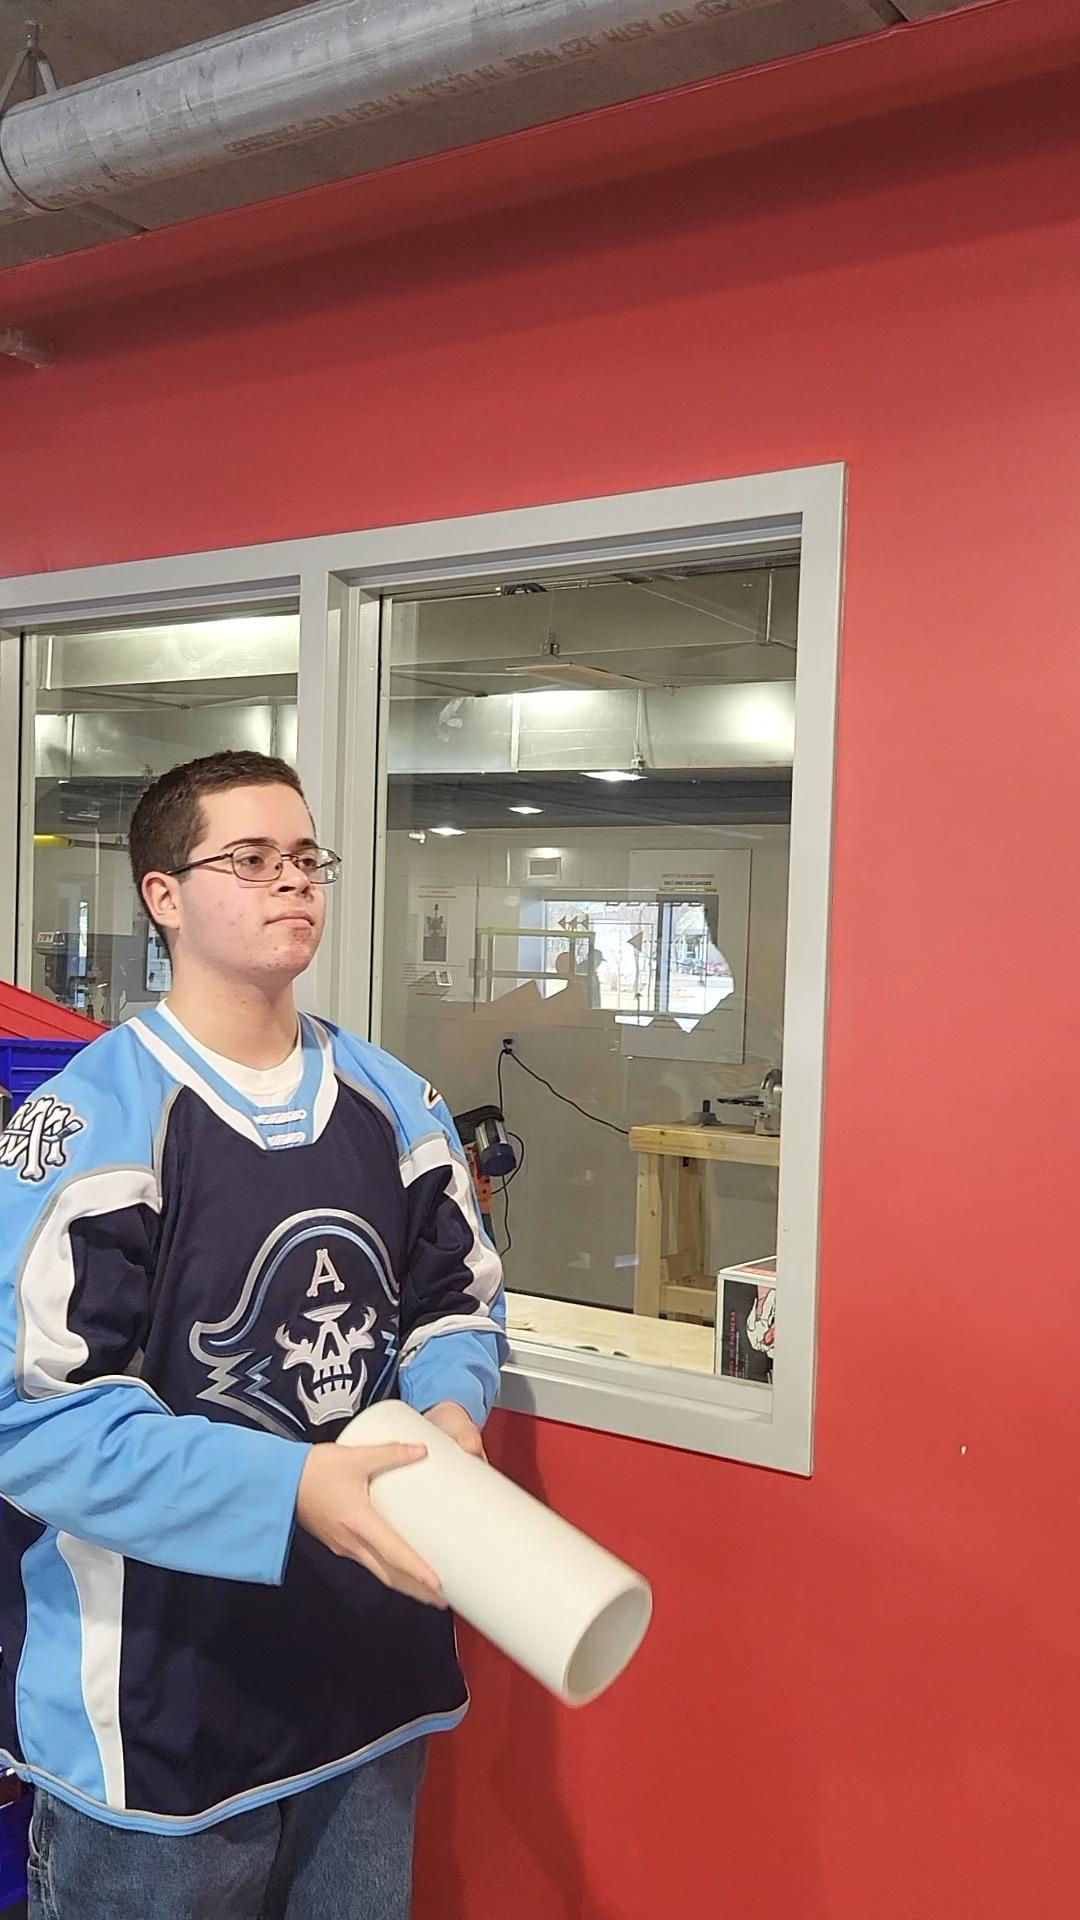coral: (330, 1400, 667, 1717)
